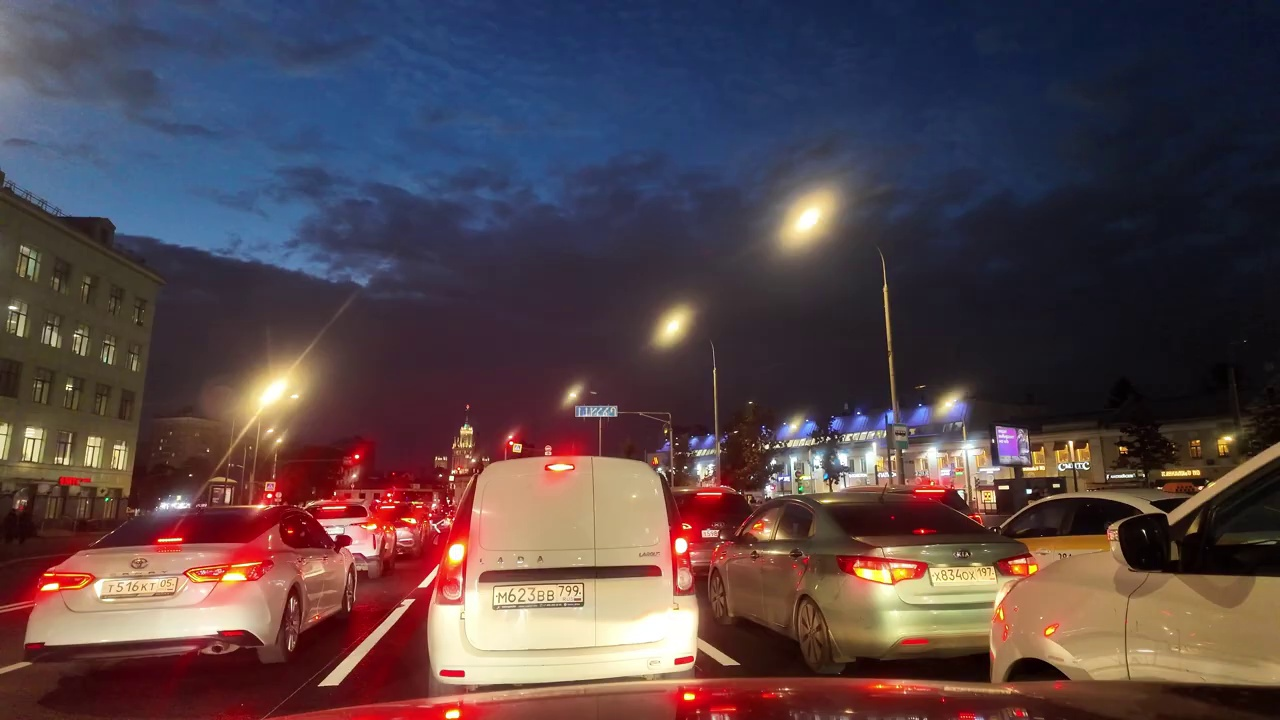acesa: (784, 192, 836, 247), (251, 367, 299, 414), (650, 303, 694, 350)
